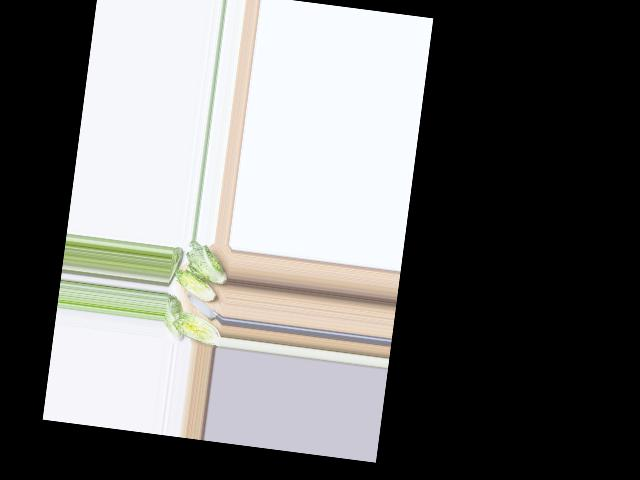lettuce: (163, 295, 187, 339)
